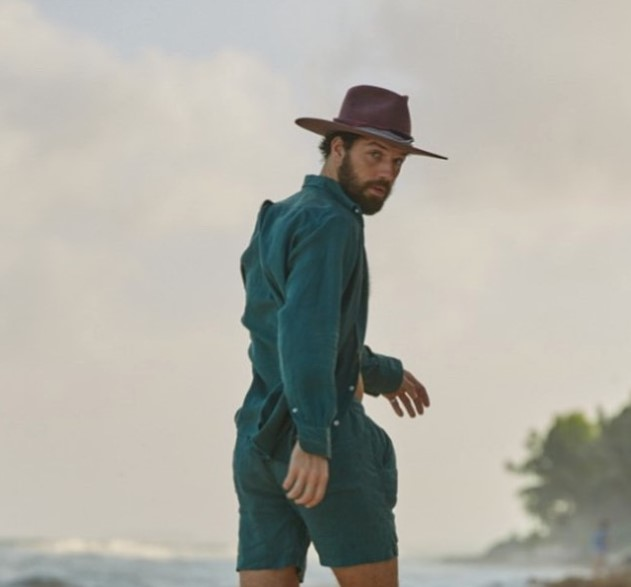face_no_mask: (332, 117, 407, 219)
